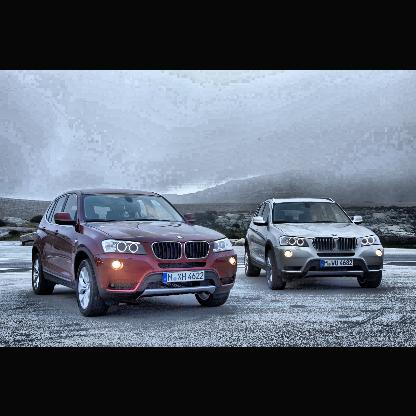BMW X3 SUV 2012: (30, 186, 240, 318)
